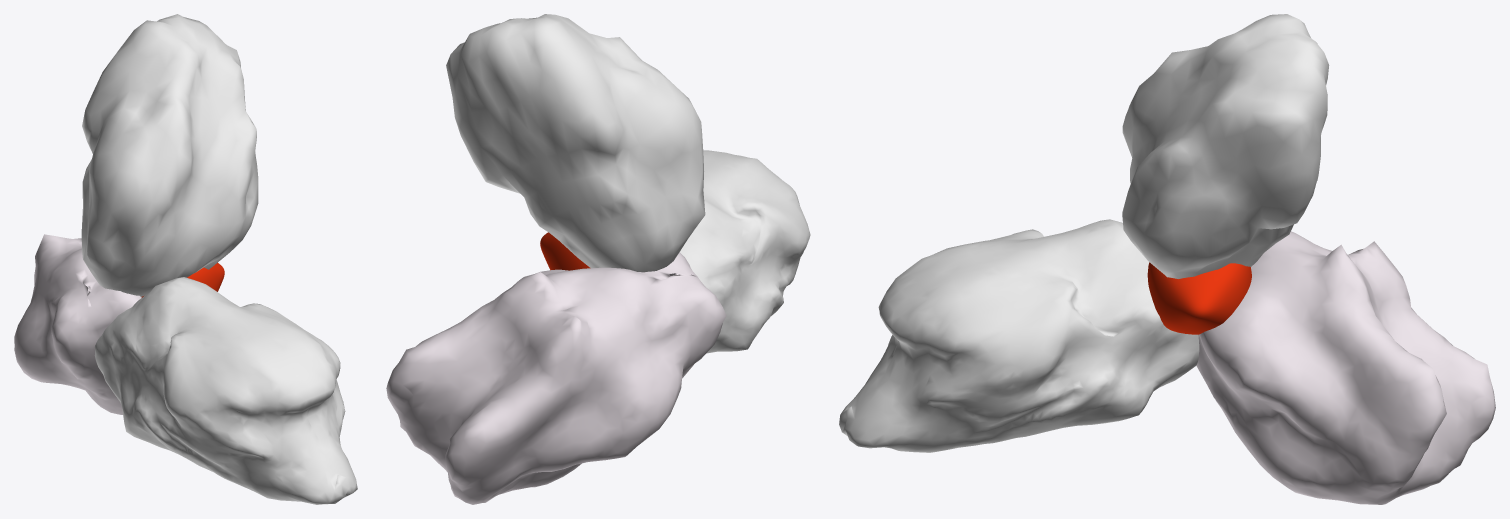
File: popcorn2 (1).fbx
3 views of the same model, side by side, from view 1: azimuth 30°, elevation 25°; view 2: azimuth 150°, elevation 25°; view 3: azimuth 270°, elevation 25° (orthographic). The views are drawn at different scales.
Visible parts, largest first — view 1: Sphere; view 2: Sphere; view 3: Sphere.
Part boxes in pixels (<box>): Sphere: <box>14,14,357,504</box>; Sphere: <box>386,14,810,504</box>; Sphere: <box>839,14,1495,504</box>.
Size of the model in its own units: 119 by 212 by 265.
